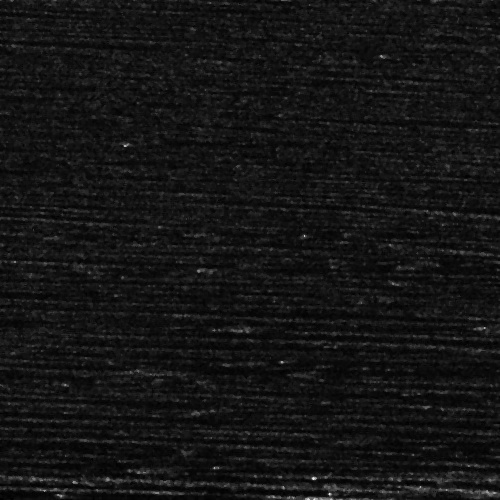object: (181, 405, 254, 412), (300, 366, 341, 373), (158, 464, 189, 473), (115, 366, 146, 369)
shadow: (320, 366, 500, 373), (174, 464, 267, 473), (131, 366, 400, 369), (217, 405, 310, 412), (0, 163, 70, 172)
